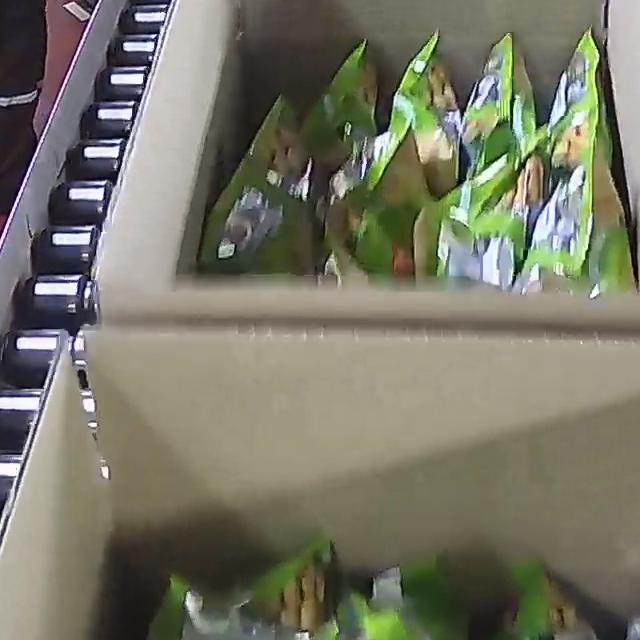yogurt: (192, 23, 636, 297), (142, 540, 640, 640)
